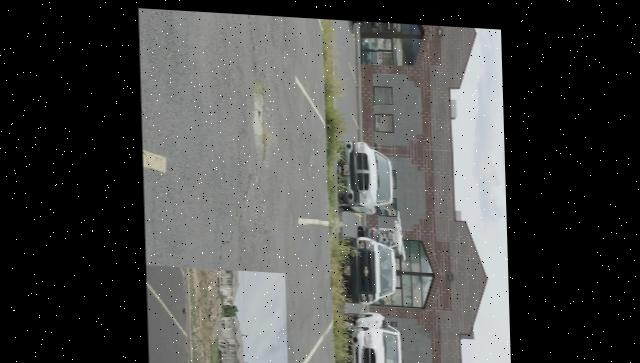drone: (380, 202, 407, 257)
